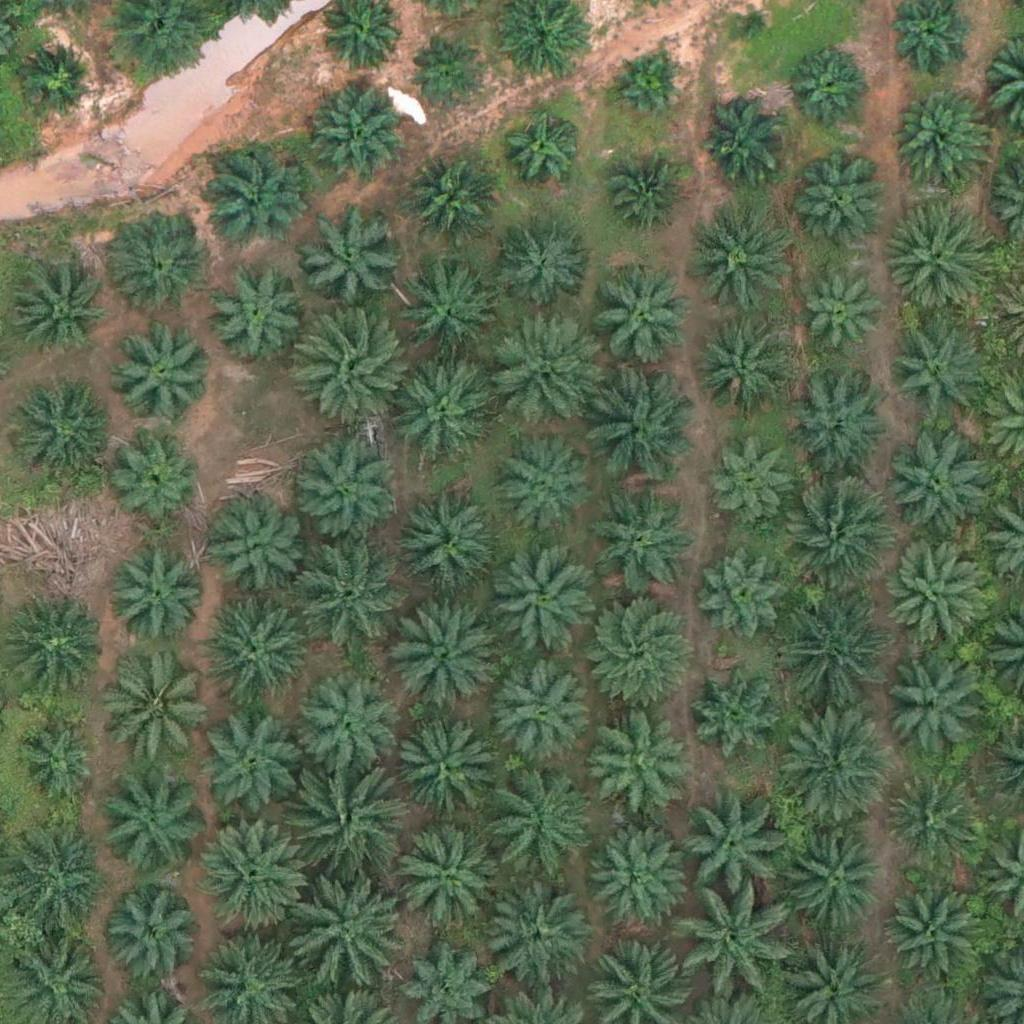Kelapa_Sawit: (479, 885, 592, 999), (485, 311, 598, 425), (287, 768, 400, 881), (94, 769, 207, 882), (1, 824, 114, 937), (577, 589, 690, 702), (484, 546, 597, 659), (195, 590, 308, 703), (777, 828, 889, 942), (778, 472, 890, 586), (775, 590, 887, 704), (582, 367, 694, 481), (885, 202, 997, 315), (776, 713, 888, 826), (674, 887, 786, 1000), (486, 767, 598, 880), (392, 820, 504, 933), (293, 880, 405, 993), (196, 816, 308, 929), (390, 595, 502, 708), (294, 540, 406, 653), (288, 430, 400, 543), (295, 310, 407, 423), (104, 653, 216, 766), (891, 88, 991, 189), (792, 156, 892, 257), (590, 269, 690, 370), (302, 206, 402, 307), (200, 145, 300, 246), (108, 210, 208, 311), (8, 259, 108, 360), (886, 772, 986, 873), (594, 828, 694, 929), (99, 887, 199, 988), (889, 323, 989, 424), (887, 442, 987, 543), (787, 380, 887, 481), (684, 660, 784, 761), (583, 710, 683, 811), (492, 659, 592, 760), (491, 430, 591, 531), (390, 360, 490, 461), (394, 493, 494, 594), (389, 721, 489, 822), (298, 676, 398, 777), (205, 497, 305, 598), (198, 711, 298, 812), (110, 545, 210, 646), (113, 320, 213, 421), (9, 380, 109, 481), (690, 211, 790, 311), (305, 92, 405, 192), (204, 261, 304, 361), (881, 887, 981, 987), (677, 799, 777, 899), (889, 550, 989, 650), (883, 656, 983, 756), (697, 541, 797, 641), (693, 315, 793, 415), (588, 492, 688, 592), (493, 212, 593, 312), (400, 267, 500, 367), (4, 599, 104, 699), (13, 35, 101, 123), (795, 276, 883, 364), (701, 94, 789, 182), (709, 436, 797, 524), (13, 712, 101, 800), (405, 157, 492, 245), (601, 158, 688, 246), (785, 35, 872, 123), (113, 432, 200, 520), (503, 111, 578, 187), (609, 51, 684, 127), (413, 42, 488, 117)
